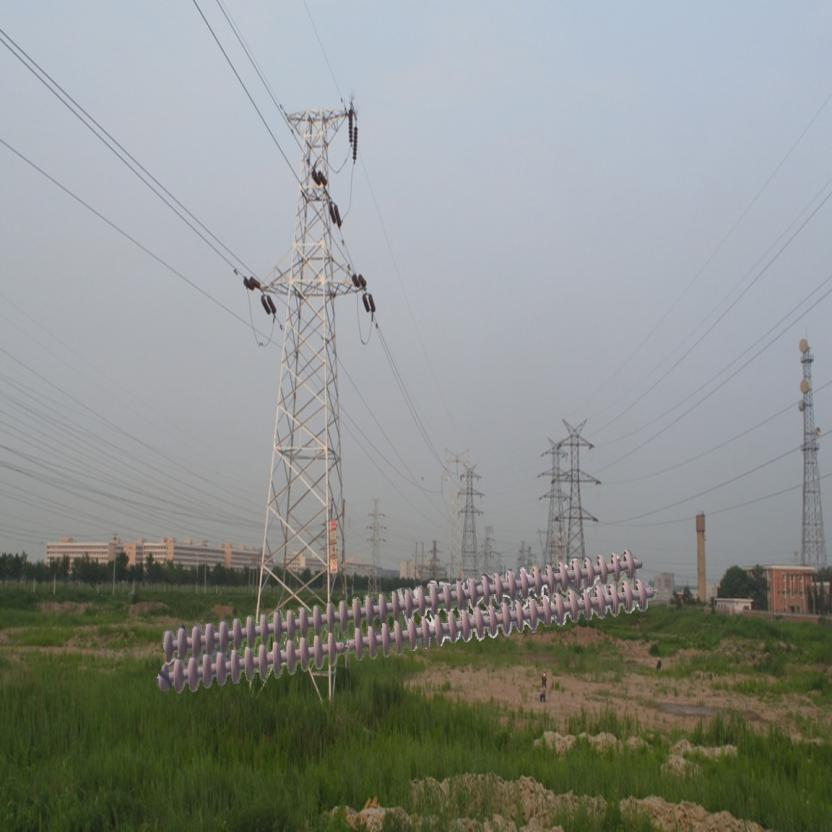defect: (321, 620, 368, 666)
